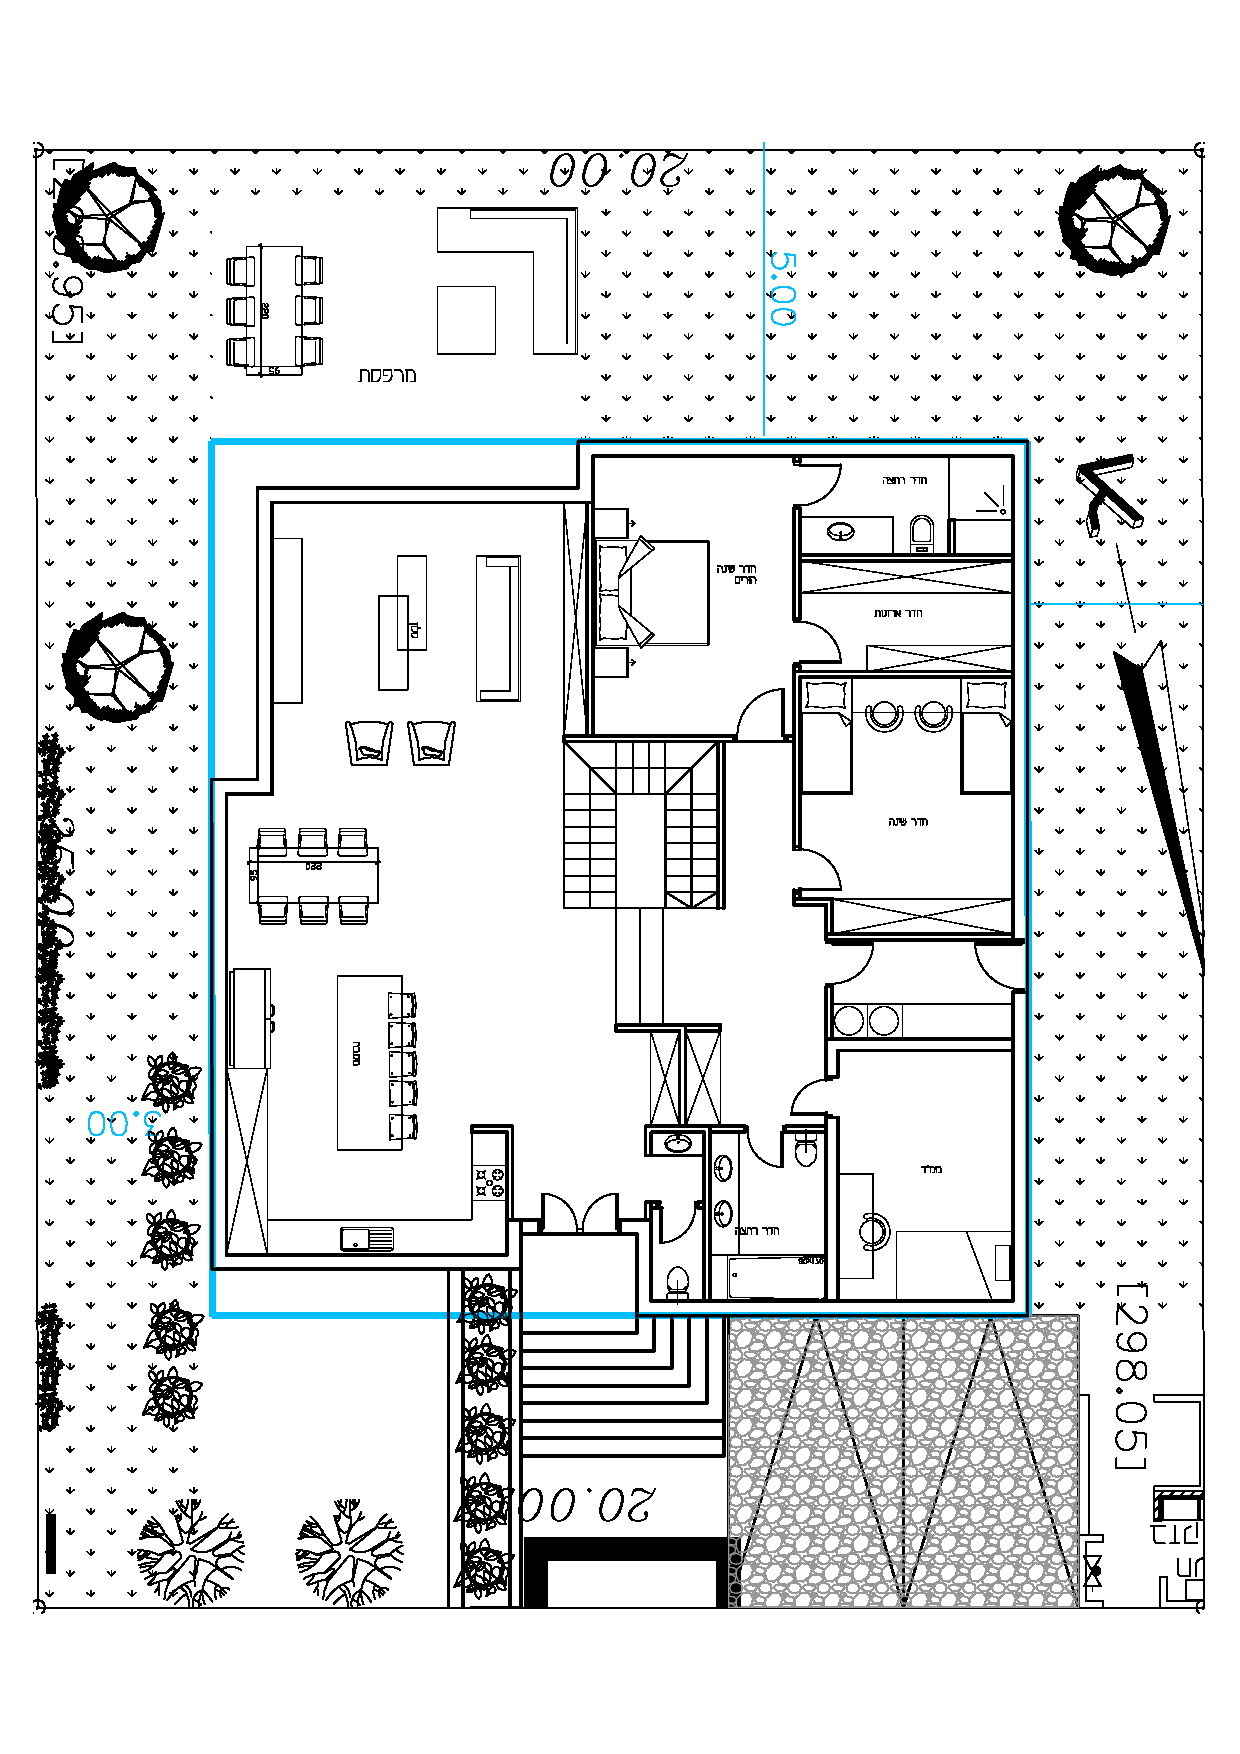door: (731, 674, 790, 730), (803, 615, 862, 671), (807, 845, 854, 895), (807, 458, 852, 509), (539, 1185, 578, 1231), (581, 1184, 621, 1221), (781, 1074, 821, 1111), (655, 1215, 695, 1251), (745, 1139, 785, 1176)
wall: (256, 486, 593, 501), (212, 760, 295, 815), (236, 1252, 491, 1270), (221, 1255, 515, 1270)
